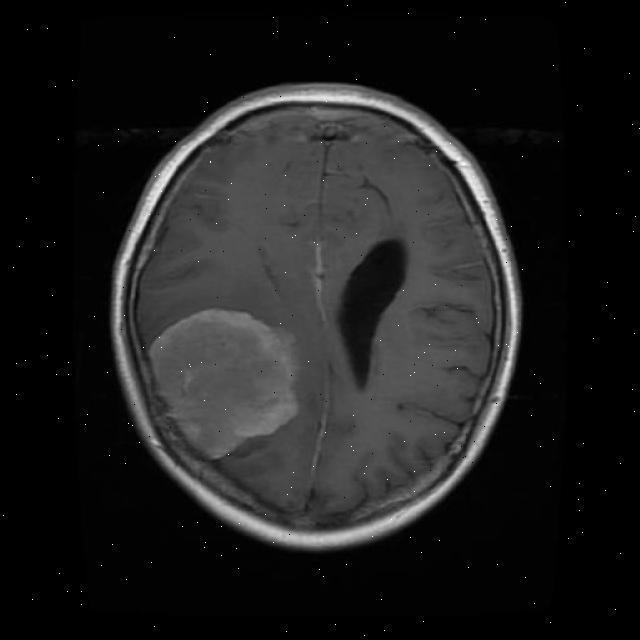Meningioma: (150, 310, 298, 459)
